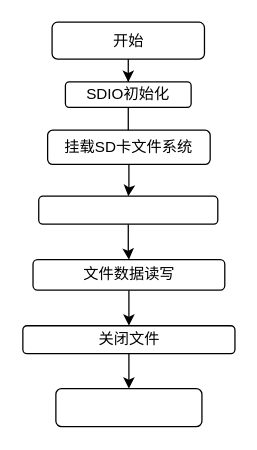
Image size: 257x450. Some labels were removed from this diagram. The centre of each missing label's shape, as x and y in pixels:
打开文件: (x=127, y=209)
结束: (x=128, y=407)
